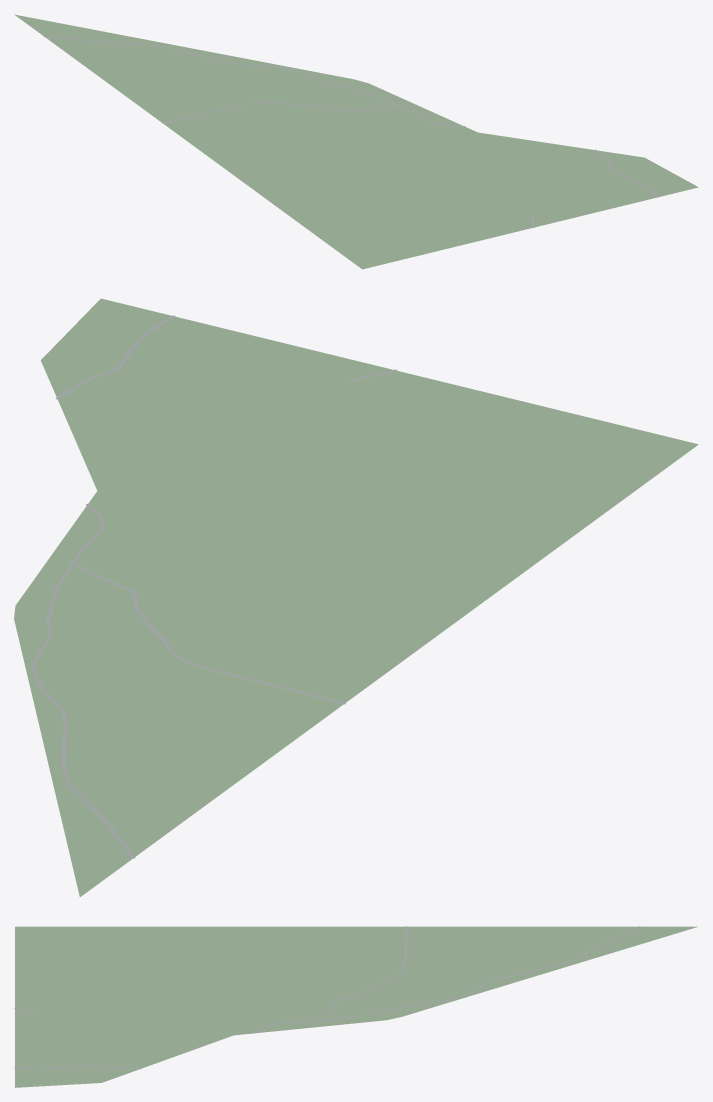
Rendered from 19_6-known-coarse.glb.
The picture shows the model from 3 angles, top to bottom: view 1: azimuth 30°, elevation 25°; view 2: azimuth 150°, elevation 25°; view 3: azimuth 270°, elevation 25°; orthographic projection. The views are drawn at different scales.
Size of the model in its own units: 515 by 0.1 by 922.
